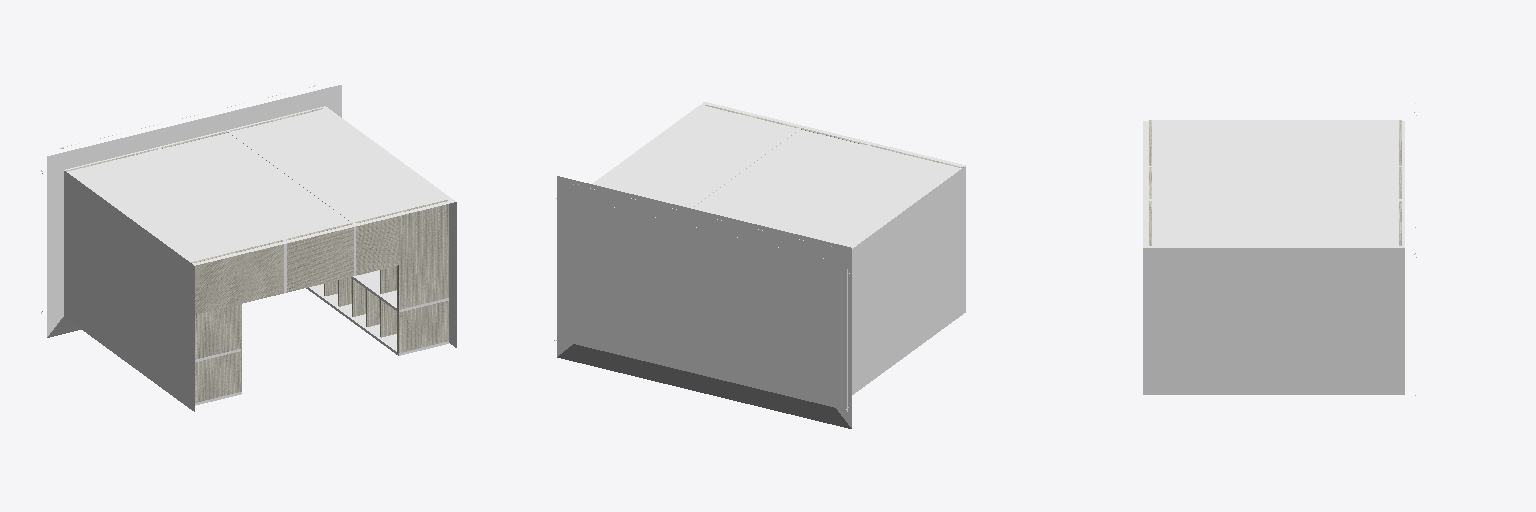
3 views of the same model, side by side, from view 1: azimuth 30°, elevation 25°; view 2: azimuth 150°, elevation 25°; view 3: azimuth 270°, elevation 25° (orthographic).
Parts seen in each view (by area): view 1: Object_138, Object_84, Object_31, Object_136, Object_139, Object_77, Object_23, Object_60, Object_145, Object_76, Object_22, Object_114 (+4 smaller); view 2: Object_135, Object_138, Object_84, Object_31, Object_136, Object_143, Object_139, Object_141, Object_145; view 3: Object_137, Object_31, Object_84, Object_136.
Part boxes in pixels (x1,y1,x2,y2): Object_138: (64,171,194,411); Object_84: (232,109,446,221); Object_31: (68,149,282,261); Object_136: (64,106,455,265); Object_139: (47,85,341,169); Object_77: (399,200,448,309); Object_23: (190,240,283,314); Object_60: (286,223,353,291); Object_145: (47,157,63,336); Object_76: (355,212,398,274); Object_22: (195,304,240,359); Object_114: (399,301,448,352); Object_135: (574,198,834,407); Object_138: (852,166,965,394); Object_84: (597,106,797,207); Object_31: (761,146,959,247); Object_136: (593,102,965,258); Object_143: (557,344,851,428); Object_139: (557,176,851,260); Object_141: (557,177,573,356); Object_145: (835,249,851,427); Object_137: (1143,248,1404,394); Object_31: (1152,121,1398,165); Object_84: (1152,201,1398,245); Object_136: (1143,121,1404,247).
Size of the model in its own units: 3533 by 2088 by 2817.
8 materials, 2 textured.